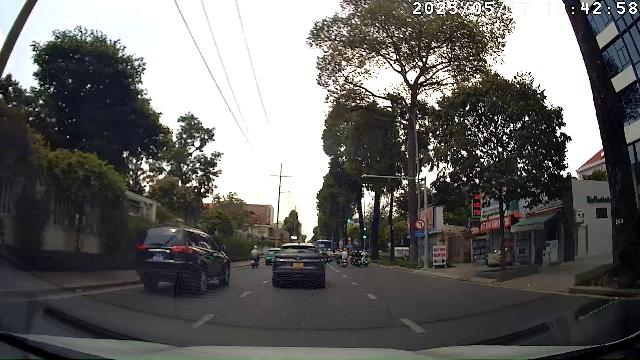123a-cam-re-trai: (415, 220, 425, 230)
